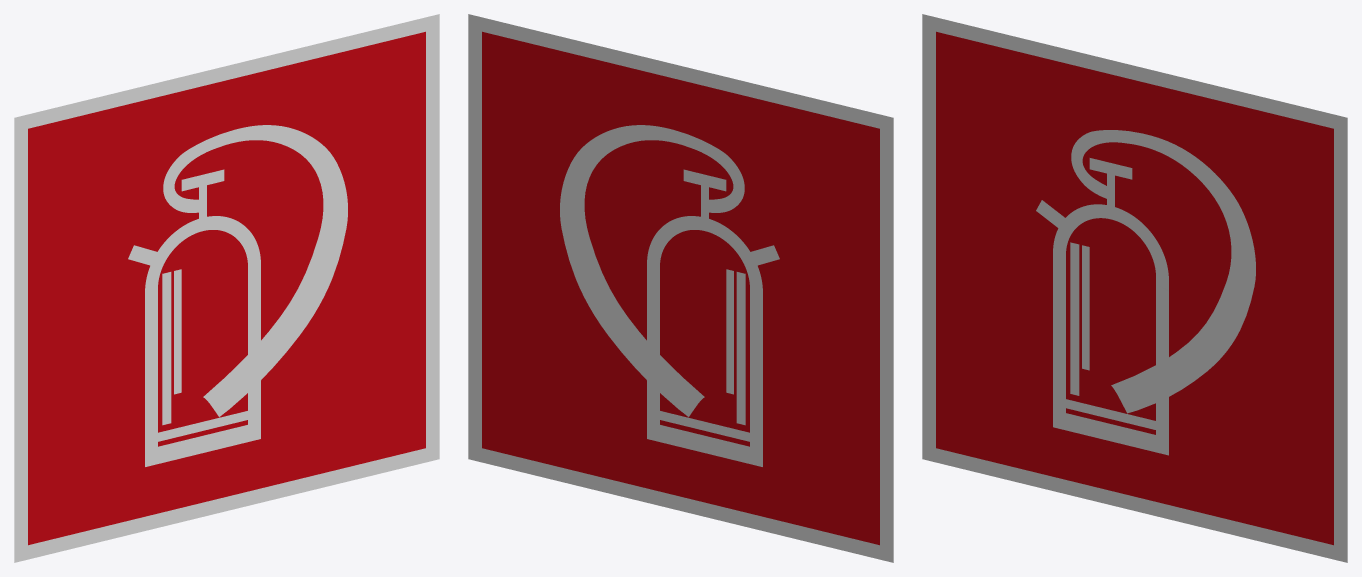
File: Extinguisher-Information-Sign.fbx
The picture shows the model from 3 angles, left to right: view 1: azimuth 30°, elevation 25°; view 2: azimuth 150°, elevation 25°; view 3: azimuth 330°, elevation 25°; orthographic projection.
Visible parts, largest first — view 1: Fire-Extinguisher-Information-Sign.002; view 2: Fire-Extinguisher-Information-Sign.002; view 3: Fire-Extinguisher-Information-Sign.002.
Part boxes in pixels (<box>): Fire-Extinguisher-Information-Sign.002: <box>14,14,439,562</box>; Fire-Extinguisher-Information-Sign.002: <box>468,14,893,562</box>; Fire-Extinguisher-Information-Sign.002: <box>922,14,1347,562</box>.
Size of the model in its own units: 40.17 by 40.17 by 0.000359.
